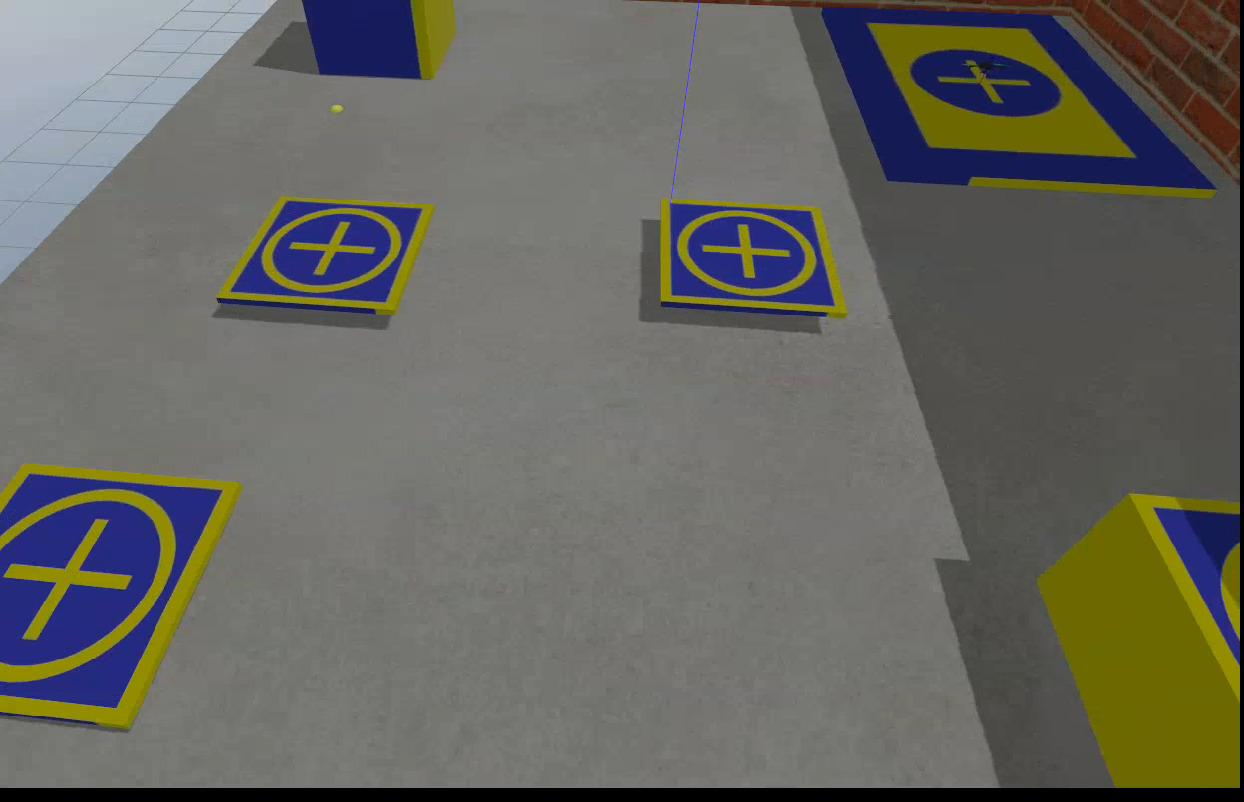large_base: (822, 1, 1219, 207)
small_base: (1, 464, 239, 745), (225, 194, 432, 319), (1127, 491, 1244, 708), (658, 202, 850, 321)
